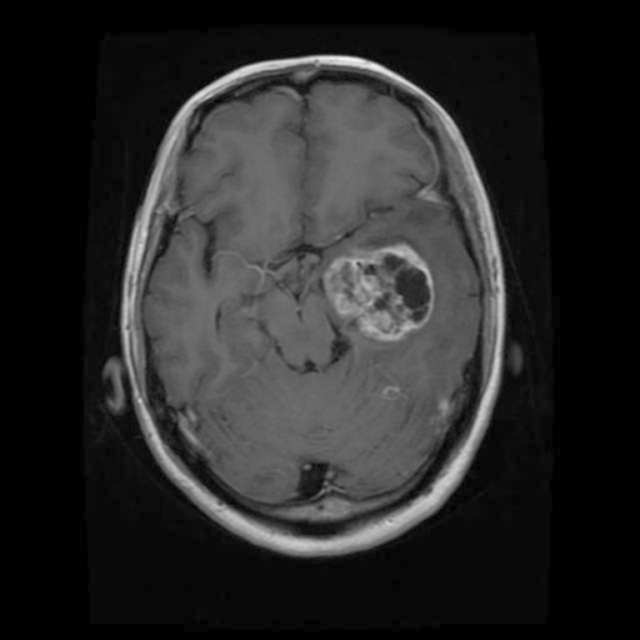pituitary tumor: (328, 254, 432, 342)
